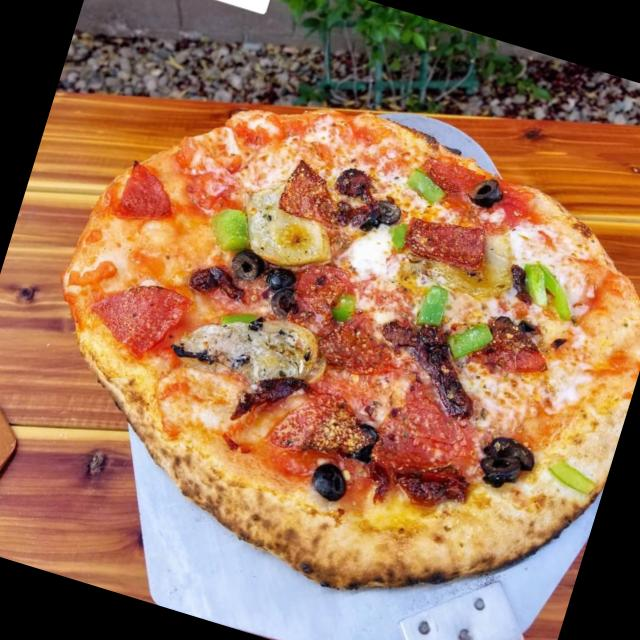black_olives: (472, 424, 538, 496), (226, 244, 299, 294), (354, 190, 404, 237), (311, 457, 355, 502), (462, 172, 506, 216), (266, 284, 302, 319)
pepperoni: (82, 261, 197, 365), (374, 380, 476, 478), (265, 380, 368, 464), (469, 306, 559, 386), (281, 247, 353, 331), (108, 153, 181, 228), (322, 307, 397, 377), (275, 159, 337, 226), (422, 146, 486, 202)
peppers: (512, 261, 580, 318), (443, 314, 494, 368), (411, 276, 453, 336), (208, 202, 254, 255), (548, 455, 604, 497), (404, 165, 448, 206), (218, 298, 264, 334), (332, 290, 362, 318)
pizza: (61, 107, 640, 594)
